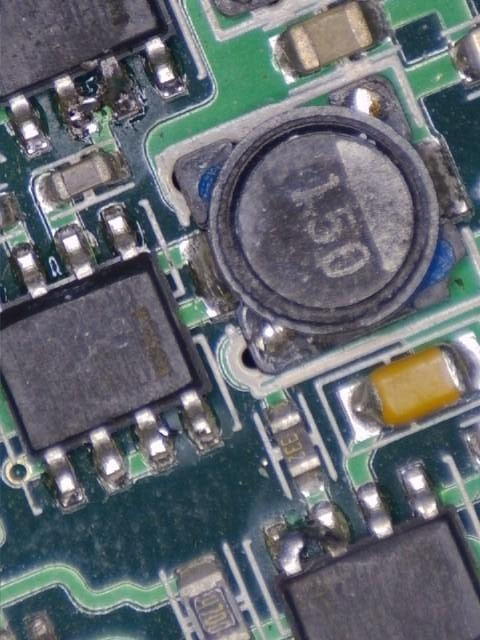pcb_defect: (132, 387, 225, 469), (54, 56, 138, 139), (265, 501, 349, 576)
